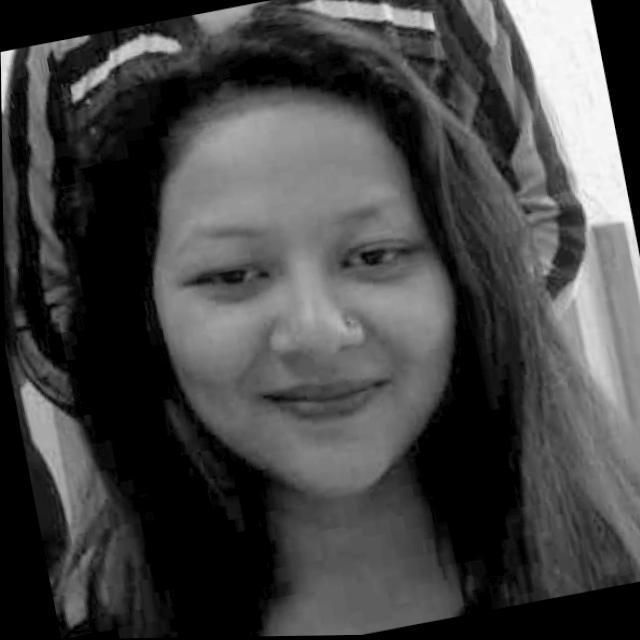puffy_eyes: (197, 283, 273, 302), (345, 264, 411, 282)
